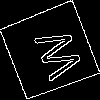W: (25, 26, 84, 86)
